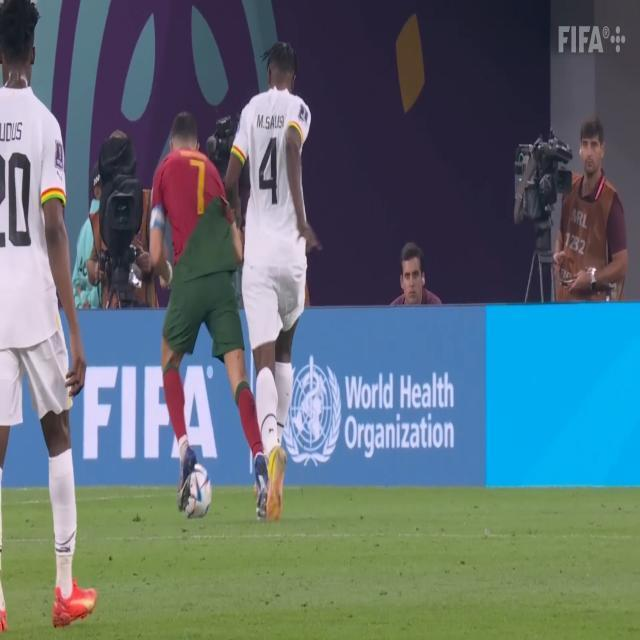football: (170, 468, 223, 515)
